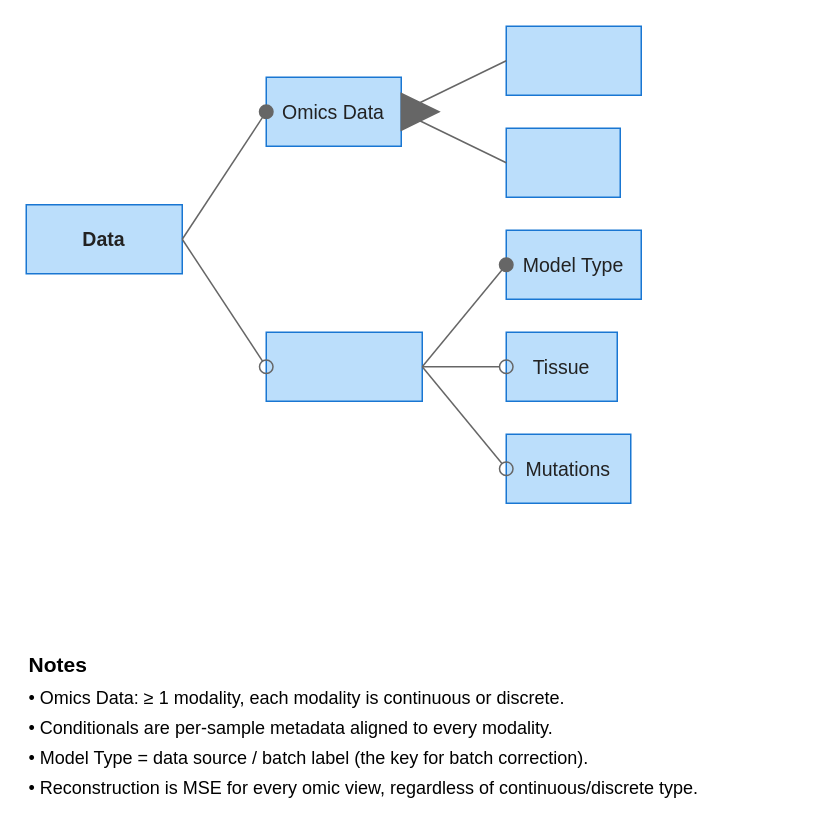
Some shapes in this 833 by 830 pixel diagram are drawn without their labels. The centre of each missing label's shape, as x and y in pixels:
"Conditionals Metadata" goes at (343,366).
"Continuous" goes at (573,60).
"Discrete" goes at (562,162).
